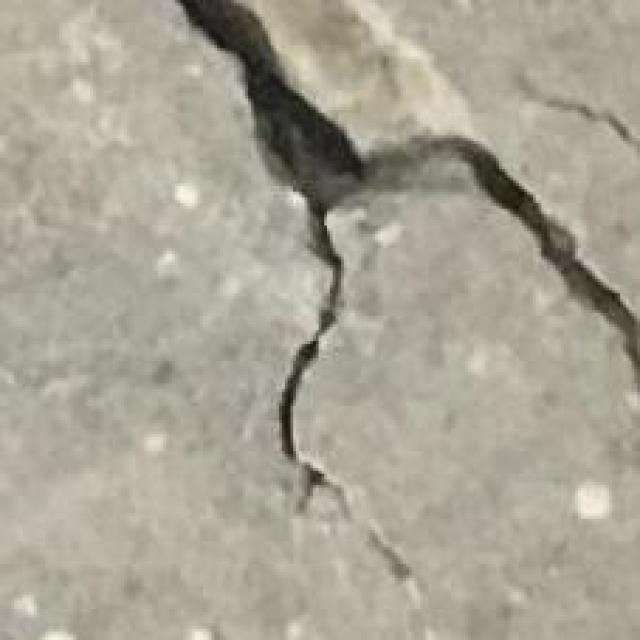branched cracks: (363, 520, 410, 581)
